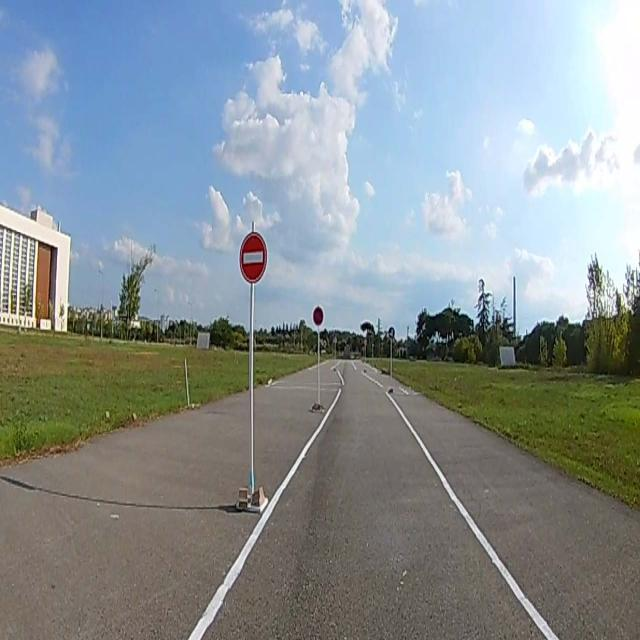girisyok: (240, 232, 266, 283)
